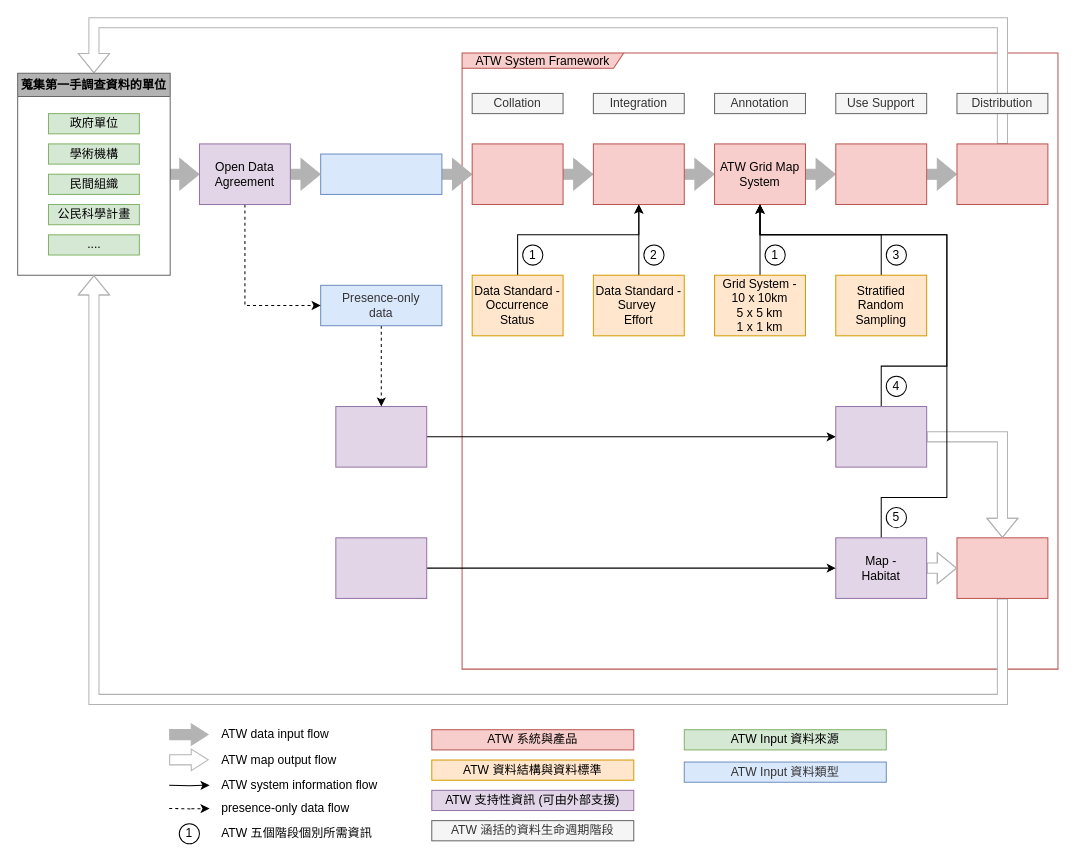
This 1076x867 diagram has some shape labels left out. Here are the shapes that lost their labels. From the top down, the centre of each, then its label:
the point at 381,173: Presence/Absence data
the point at 517,174: ETL process (API)
the point at 638,174: ATW Data Warehouse
the point at 881,174: ATW Map Product Portal
the point at 1002,174: Map - Species Atlas
the point at 381,436: Distribution Modeling process
the point at 881,436: Map - Hotspot
the point at 381,567: Species Habitat Associate Analyses
the point at 1002,567: Map - Data Gap
